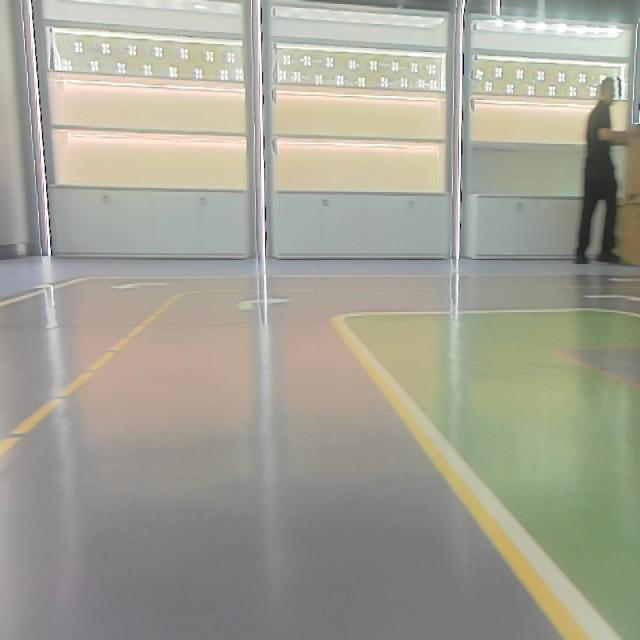left_lane: (4, 295, 185, 458)
right_lane: (333, 325, 588, 638), (1, 281, 75, 307)
